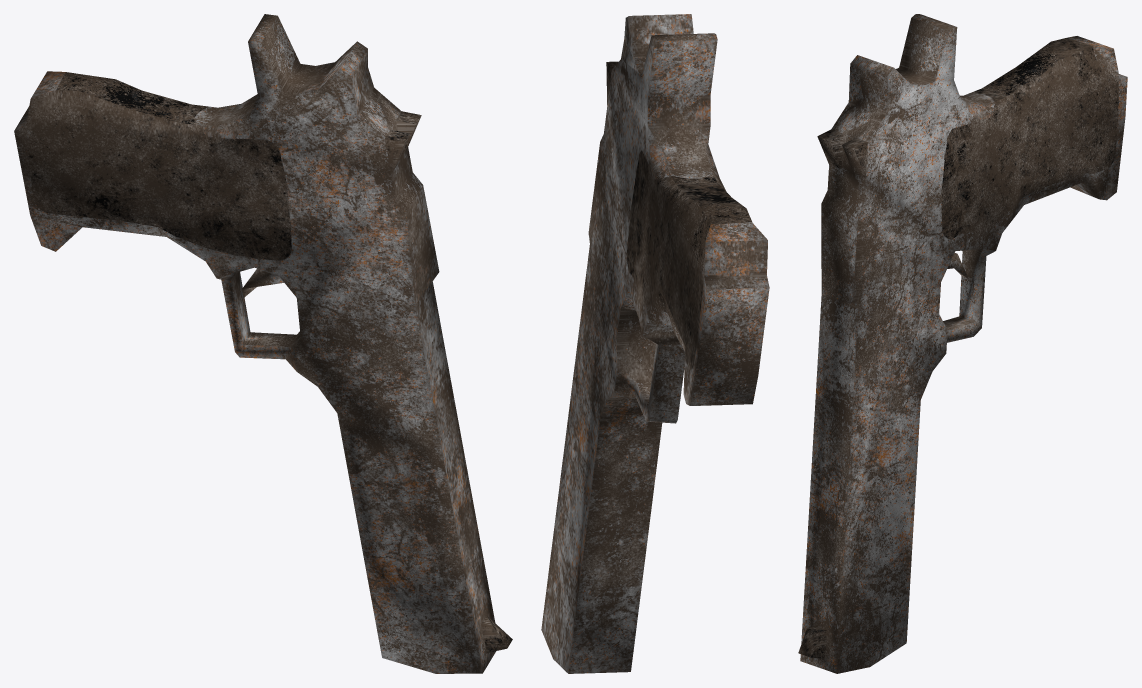
Rendered from Anim_idle_pistola_objetos.0054.obj.
3 renders of one model, left to right at view 1: azimuth 30°, elevation 25°; view 2: azimuth 150°, elevation 25°; view 3: azimuth 270°, elevation 25°, orthographic. The views are drawn at different scales.
Visible parts, largest first — view 1: Pistola1; view 2: Pistola1; view 3: Pistola1.
Boxes of the visible parts, x1,y1,x2,y2 form: Pistola1: (14,14,512,673); Pistola1: (541,14,769,673); Pistola1: (798,14,1127,673).
Size of the model in its own units: 0.9499 by 1.66 by 0.8555.
